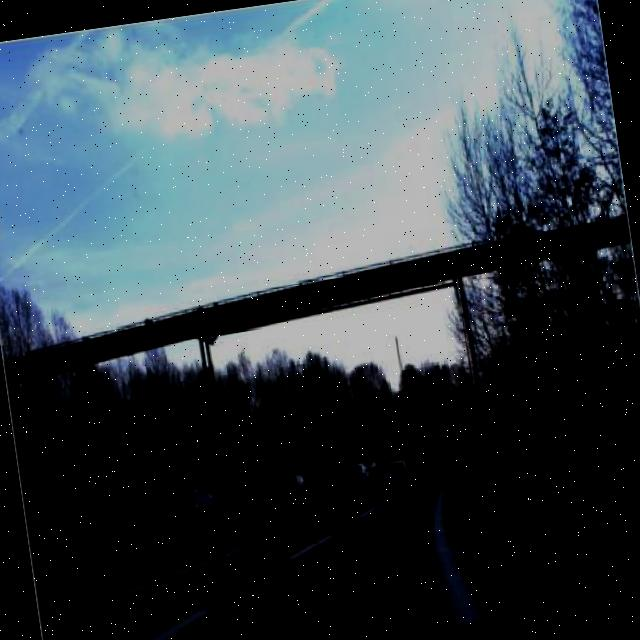Ustap pierwszenstwa: (460, 420, 479, 446)
